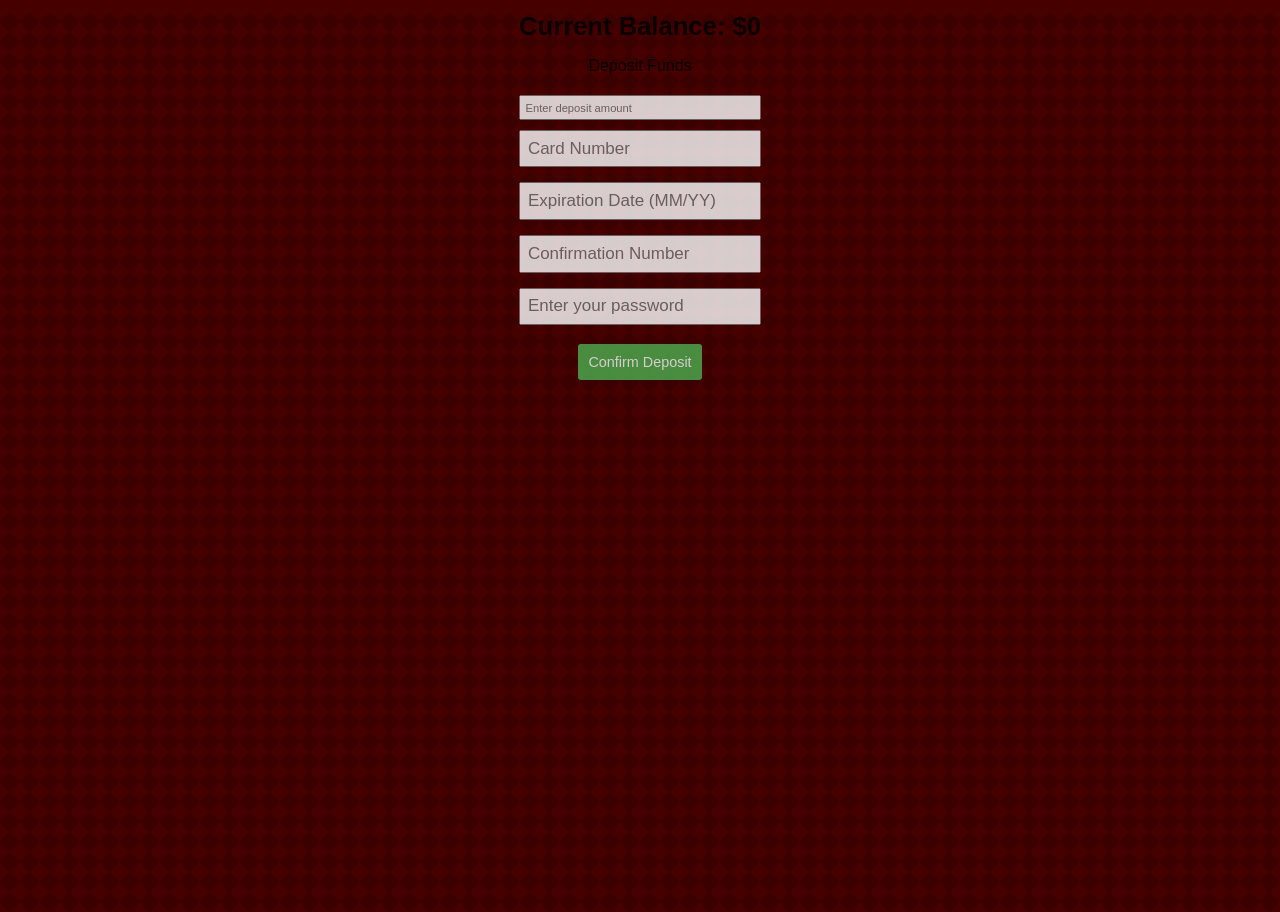
Test: Balance Component › displays an error message if required fields are missing
Click the Confirm Deposit button without filling in the fields
Click the button "Confirm Deposit".
click(640, 362)  # box [578,344,702,380]
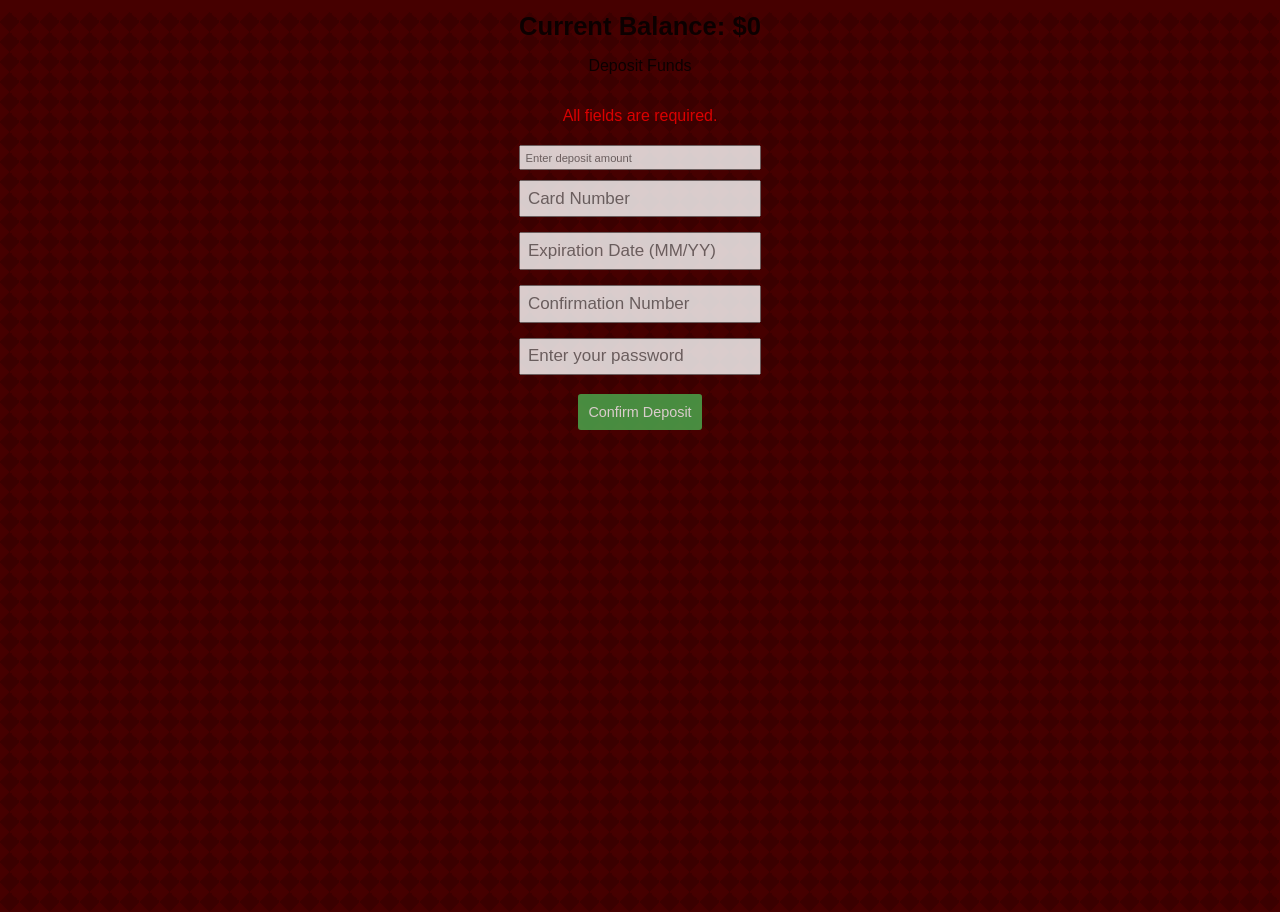
Check: the text "All fields are required." is shown, box [563,107,717,125]
